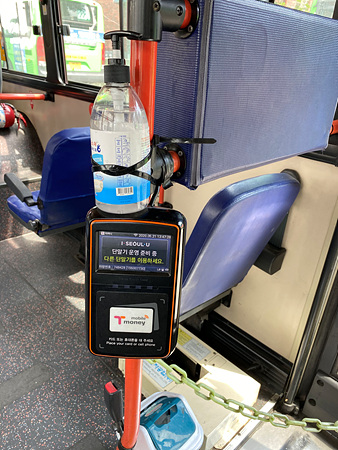terminal: (84, 205, 186, 360)
